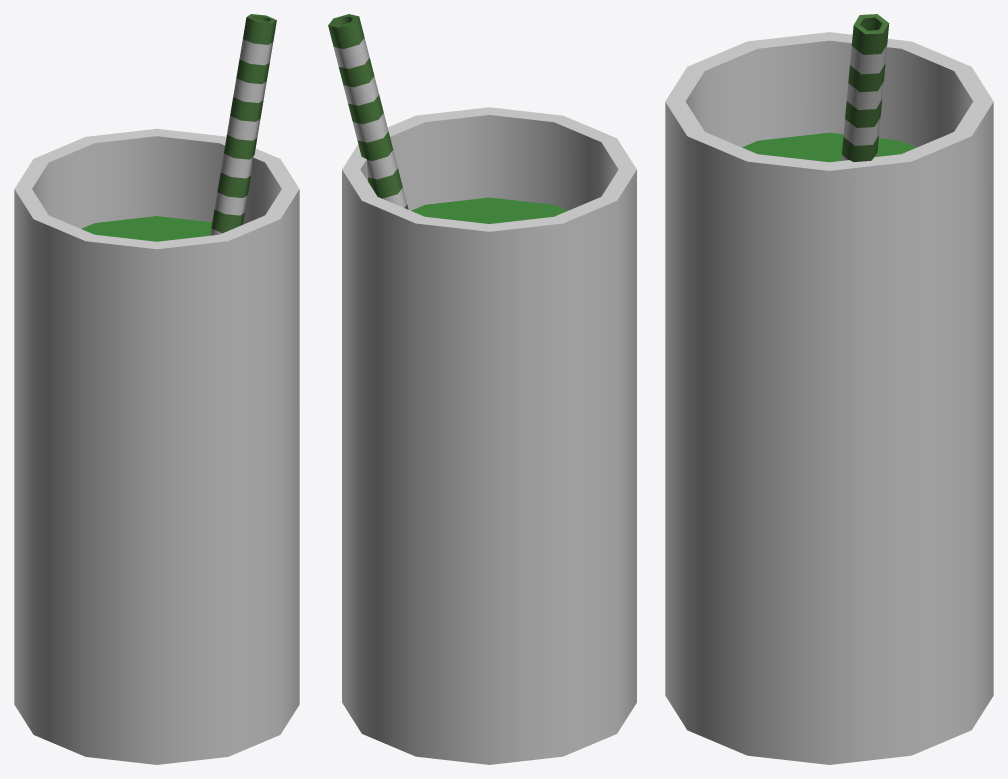
File: GreenLemonade_01.fbx
3 renders of one model, left to right at view 1: azimuth 30°, elevation 25°; view 2: azimuth 150°, elevation 25°; view 3: azimuth 270°, elevation 25°, orthographic. The views are drawn at different scales.
Visible parts, largest first — view 1: GreenLemonade_01; view 2: GreenLemonade_01; view 3: GreenLemonade_01.
Boxes of the visible parts, left/top/right/bottom form: GreenLemonade_01: left=14, top=14, right=299, bottom=764; GreenLemonade_01: left=328, top=14, right=636, bottom=764; GreenLemonade_01: left=665, top=14, right=993, bottom=764.
Size of the model in its own units: 0.112 by 0.2668 by 0.1068.
